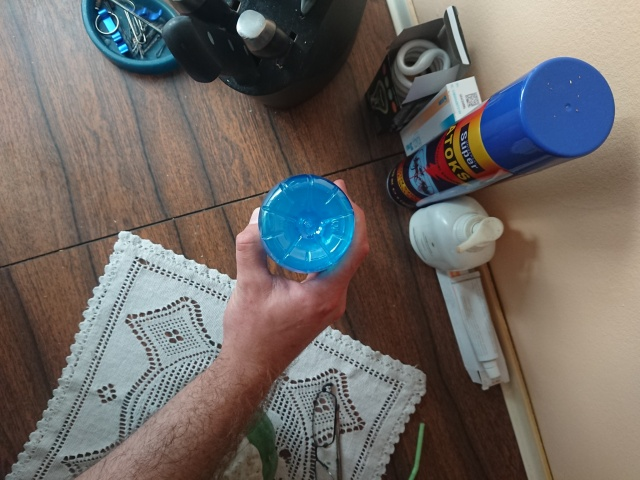Vindi Iso Sport Forest Strawberries 500mL: (255, 171, 356, 275)
